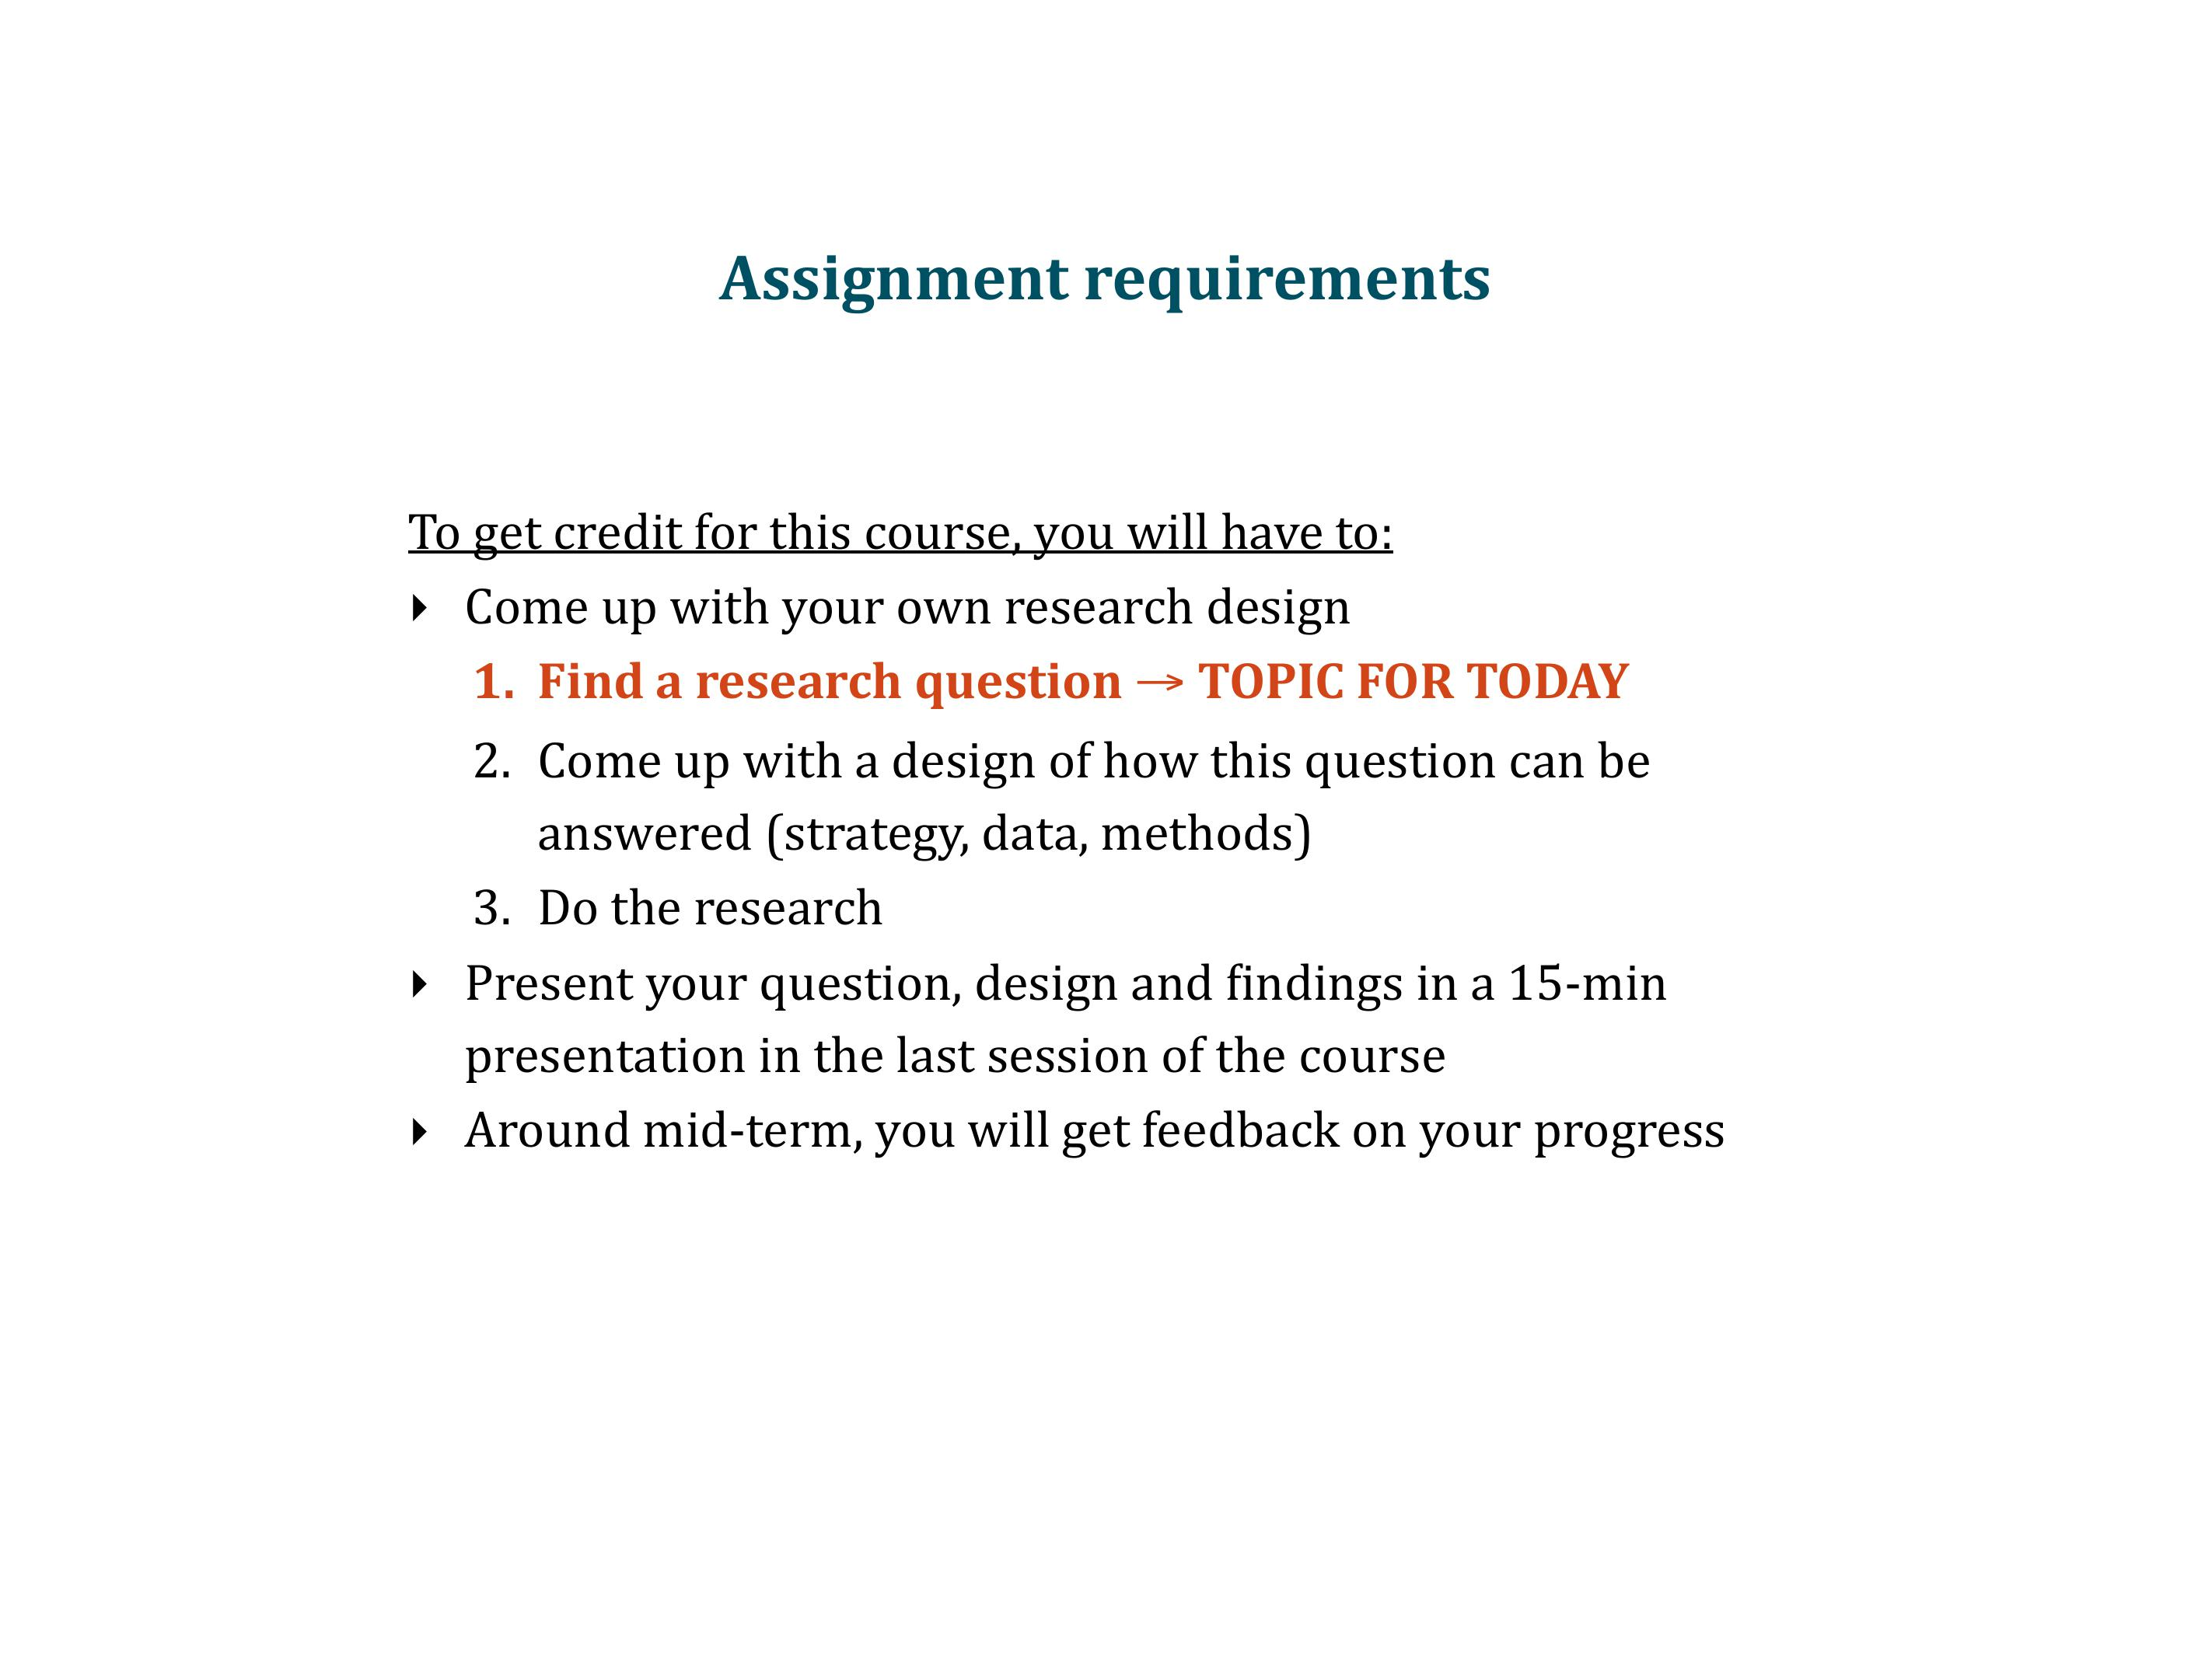Title: (680, 216, 1510, 328)
